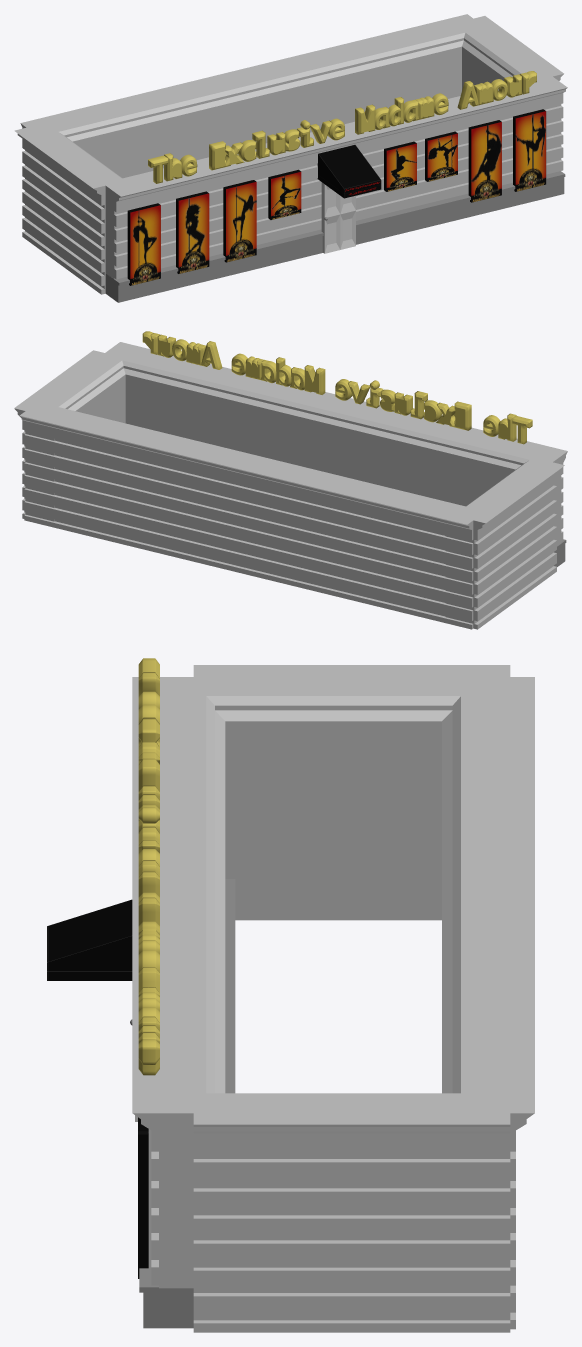
File: MadameAmour.fbx
3 views of the same model, one above another, from view 1: azimuth 30°, elevation 25°; view 2: azimuth 150°, elevation 25°; view 3: azimuth 270°, elevation 25° (orthographic). The views are drawn at different scales.
Parts seen in each view (by area): view 1: pCube18; view 2: pCube18; view 3: pCube18.
Part boxes in pixels (<box>): pCube18: <box>14,14,567,302</box>; pCube18: <box>14,331,567,629</box>; pCube18: <box>47,658,534,1332</box>.
Bounding box in the file's own units: 37.17 × 10.14 × 16.67.
Materials: 13 (9 with a texture image).
